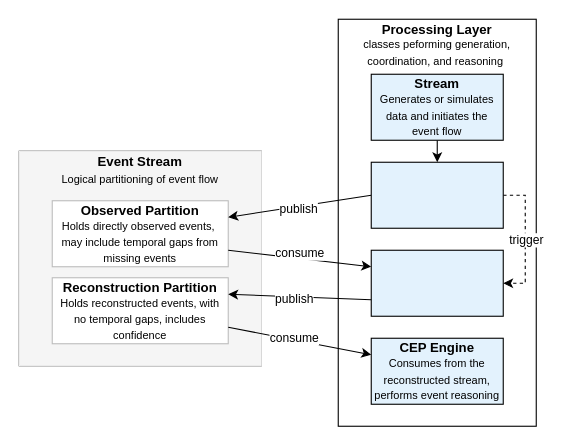
Some shapes in this 562 by 446 pixel diagram are drawn without their labels. The shapes that lost their labels are listed below. From the top down, each one's centre as x and y in pixels, then its label:
the point at 436,194: Coordinator Moniters schedules, detects gaps, triggers reconstruction
the point at 436,282: Reconstructors Fills in missing data, publishes events with confidence attached
